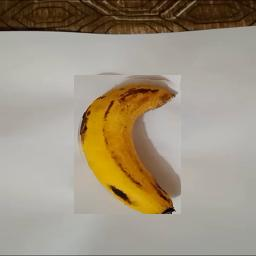Banana Semifresh: (75, 75, 182, 214)
